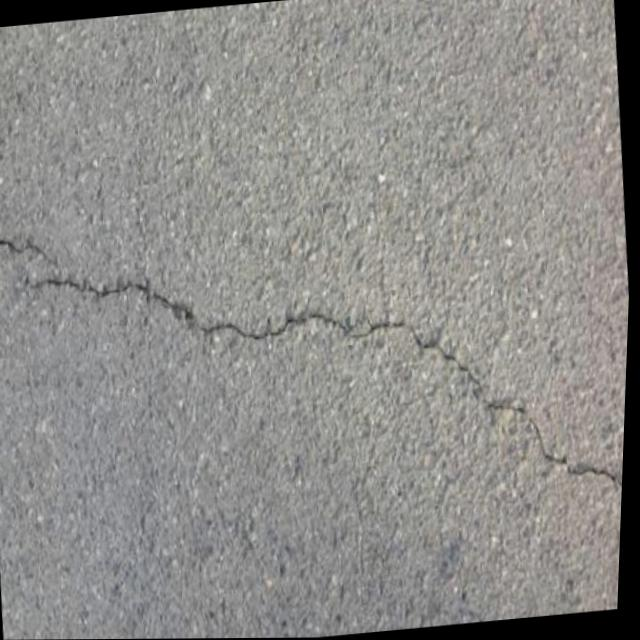Crack: (0, 173, 635, 561)
